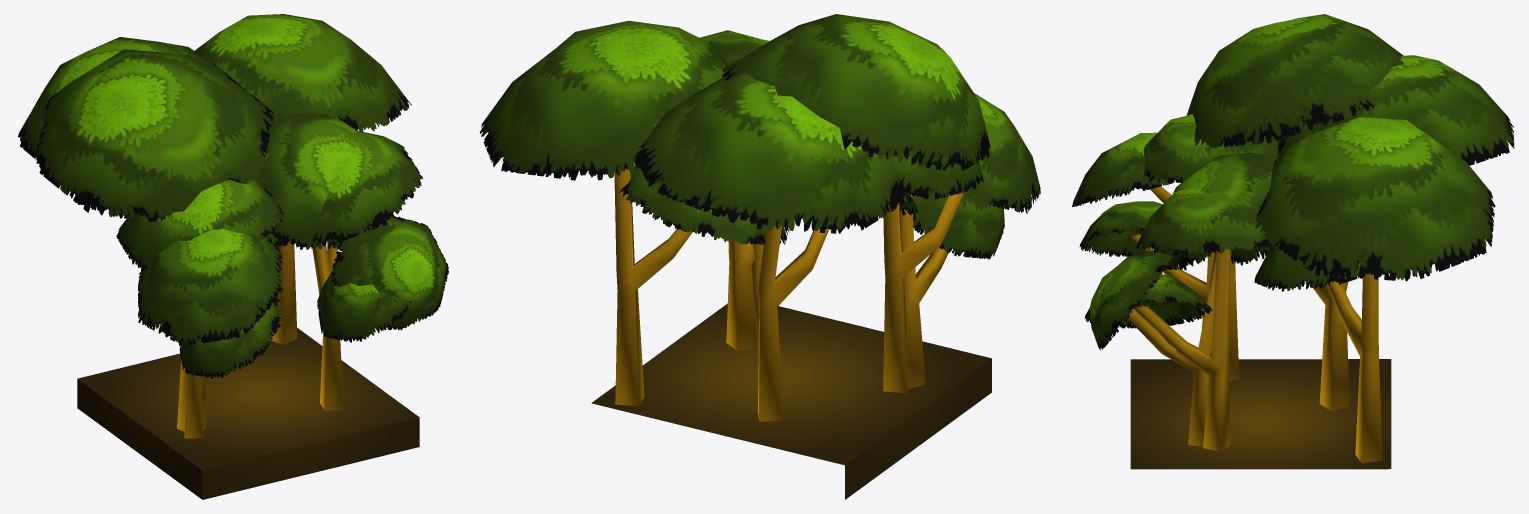
The picture shows the model from 3 angles, left to right: view 1: azimuth 30°, elevation 25°; view 2: azimuth 150°, elevation 25°; view 3: azimuth 270°, elevation 25°; orthographic projection. The views are drawn at different scales.
Parts seen in each view (by area): view 1: tree v21, tree v21.002, tree v21.001; view 2: tree v21, tree v21.002, tree v21.001; view 3: tree v21, tree v21.002, tree v21.001.
Boxes of the visible parts, x1,y1,x2,y2 form: tree v21: [77, 14, 419, 499]; tree v21.002: [34, 49, 422, 431]; tree v21.001: [18, 37, 448, 410]; tree v21: [479, 20, 1004, 499]; tree v21.002: [699, 14, 1040, 393]; tree v21.001: [635, 33, 918, 421]; tree v21: [1079, 114, 1495, 469]; tree v21.002: [1072, 14, 1404, 451]; tree v21.001: [1089, 55, 1514, 446].
Size of the model in its own units: 344 by 321 by 341.
